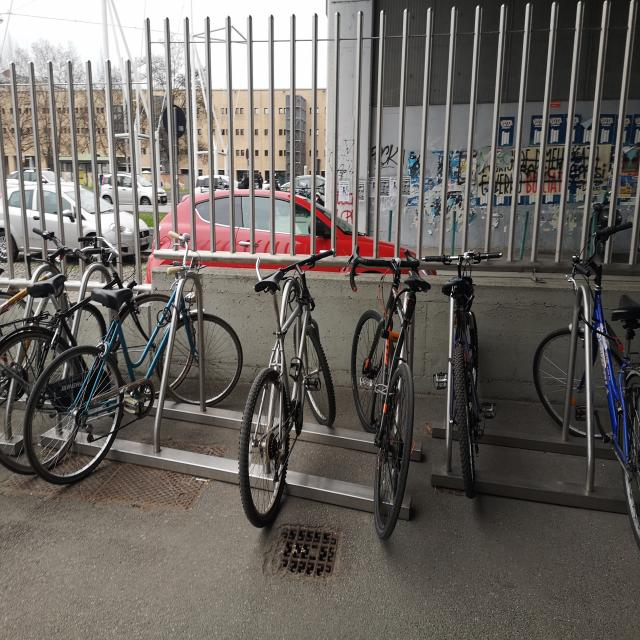Bicycle: (35, 229, 238, 498), (0, 208, 170, 472), (532, 228, 640, 519), (245, 225, 332, 549), (352, 235, 419, 530), (424, 247, 489, 512)
